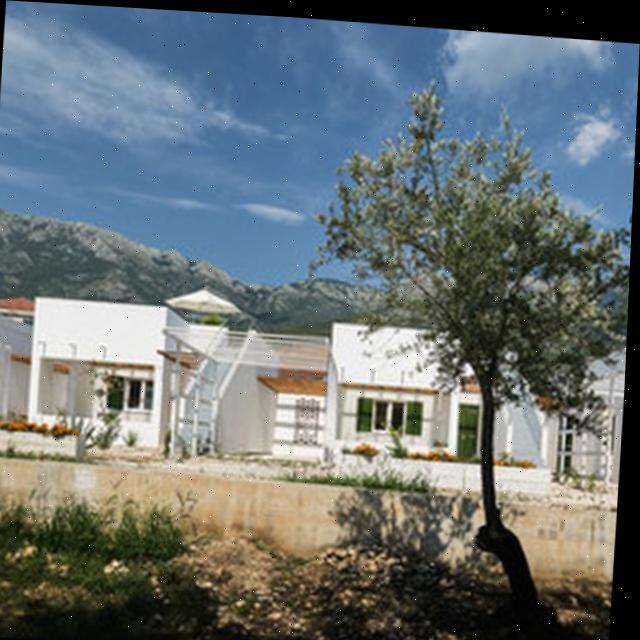building: (0, 269, 628, 506)
